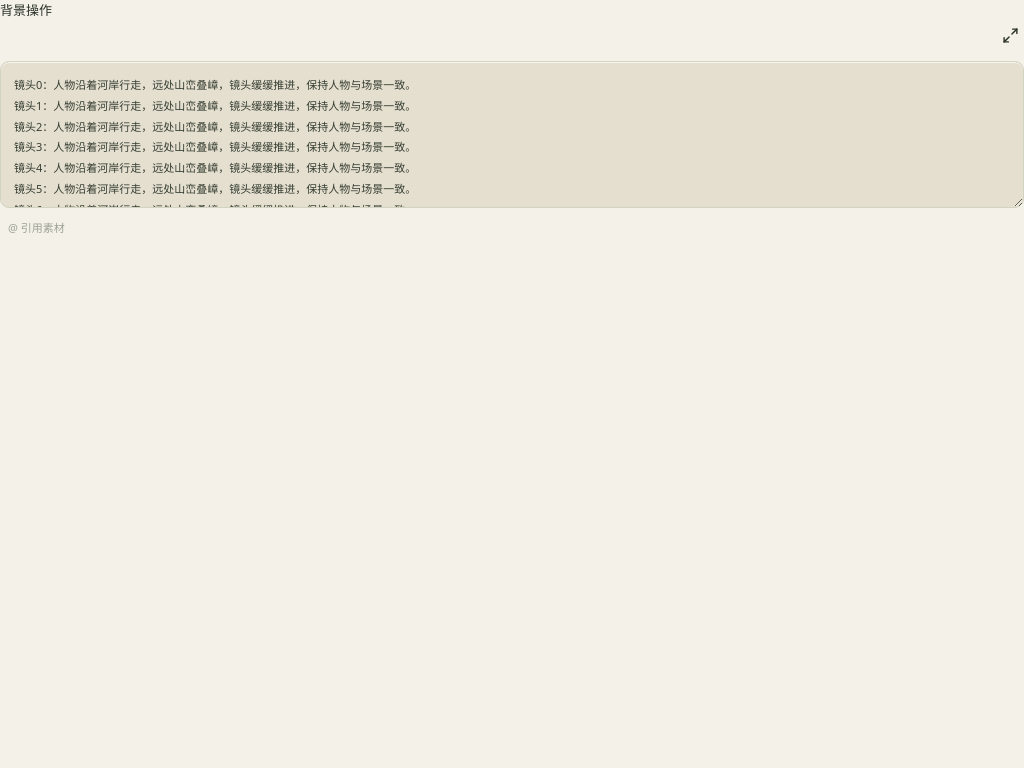
Scenario: persists font size and keeps background controls inert only while expanded
This screenshot has width=1024, height=768.
Earlier steps of the test are not shown.
What coordinates should you click on to do the following:
click the button named "展开编辑"
I would click on:
 (1010, 36)
Its box is [996,21,1023,51].
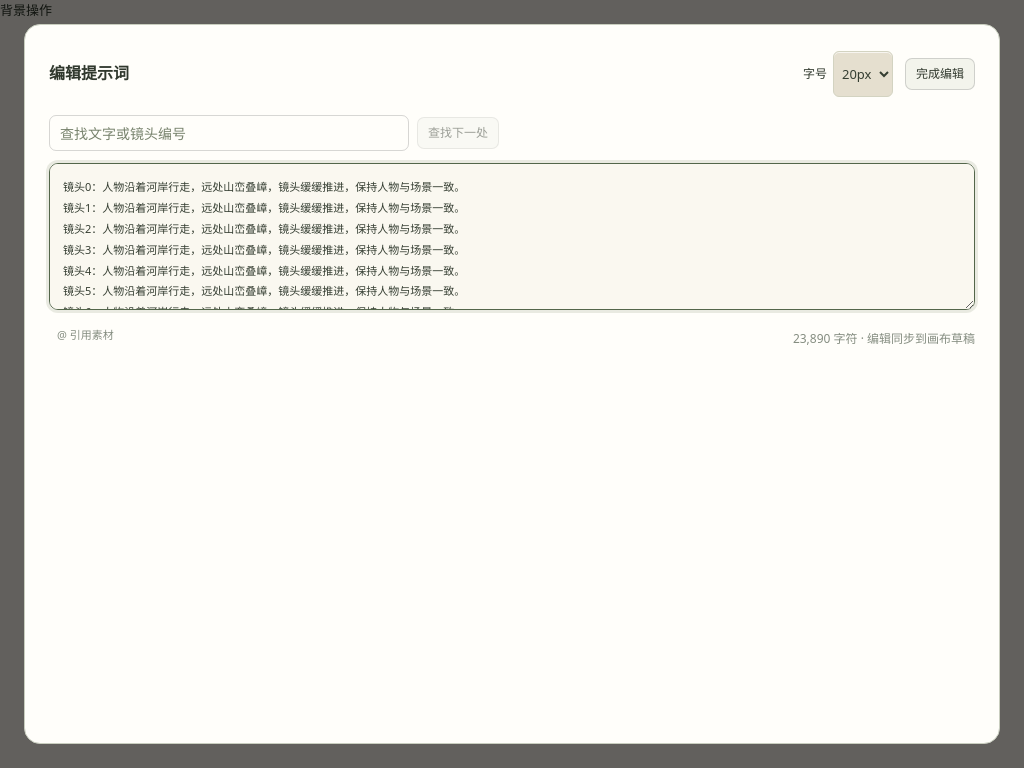
Expected: the dropdown named "提示词字号" shows "20px", [833,51,893,97]
